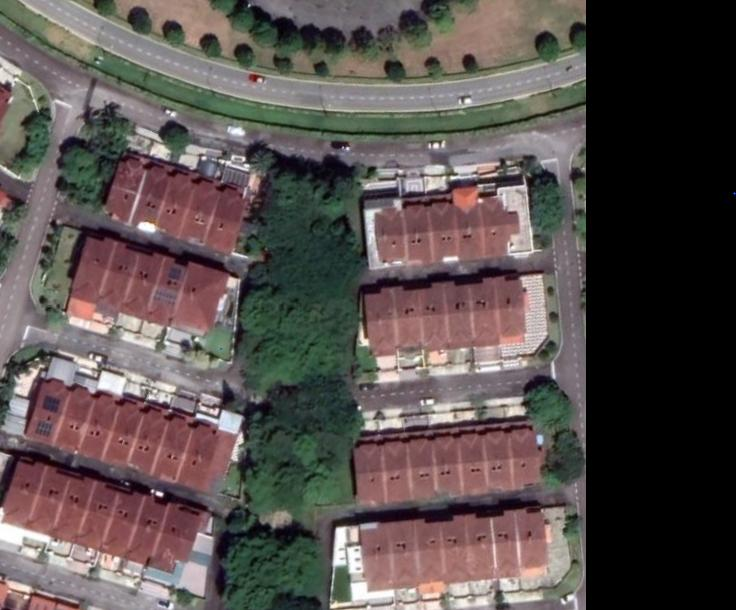building: (172, 416, 243, 496), (169, 258, 235, 337), (144, 499, 204, 578), (100, 151, 151, 228), (118, 490, 165, 567), (18, 375, 67, 447), (208, 180, 250, 262), (141, 251, 185, 328), (44, 473, 91, 545), (145, 410, 190, 485), (95, 487, 141, 560), (66, 233, 112, 305), (122, 403, 167, 476), (47, 382, 92, 455), (72, 385, 115, 461), (96, 397, 142, 468), (22, 462, 66, 535), (116, 248, 159, 322), (157, 167, 198, 244), (476, 190, 521, 260), (182, 174, 222, 252), (71, 475, 112, 551), (357, 518, 397, 595), (93, 236, 133, 312), (134, 162, 173, 237), (348, 439, 391, 507), (512, 426, 551, 493), (466, 274, 500, 349), (467, 511, 500, 585), (360, 284, 392, 360), (386, 283, 418, 358), (417, 516, 449, 590), (439, 278, 471, 352), (493, 273, 528, 340), (392, 516, 422, 593), (450, 186, 479, 265), (459, 431, 493, 498), (517, 506, 551, 572), (382, 439, 416, 505), (486, 429, 518, 497), (445, 512, 472, 588), (496, 506, 523, 582), (424, 200, 454, 268), (416, 280, 443, 354), (435, 434, 466, 498), (398, 202, 427, 269), (411, 435, 439, 504), (371, 204, 399, 268)
